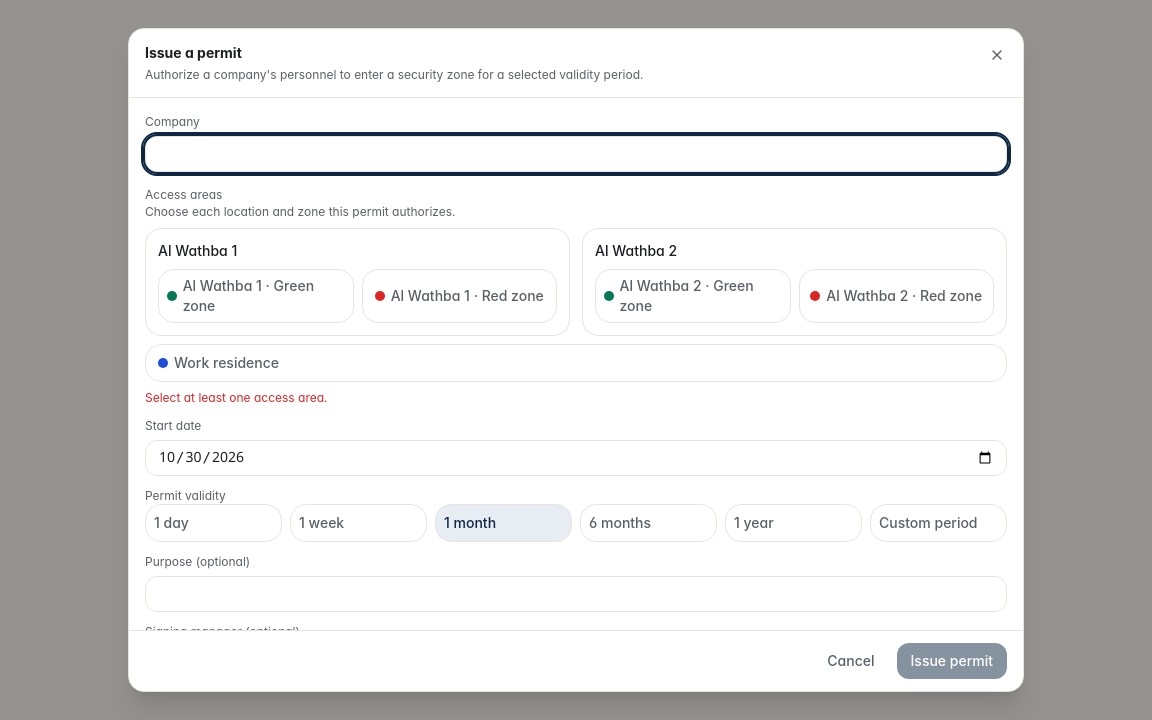
Test: requires a nonblank job / trade for each new person
Type "ACME" into the field labelled "Company" at (576, 154), box [145,136,1007,172]
(page scrolled)
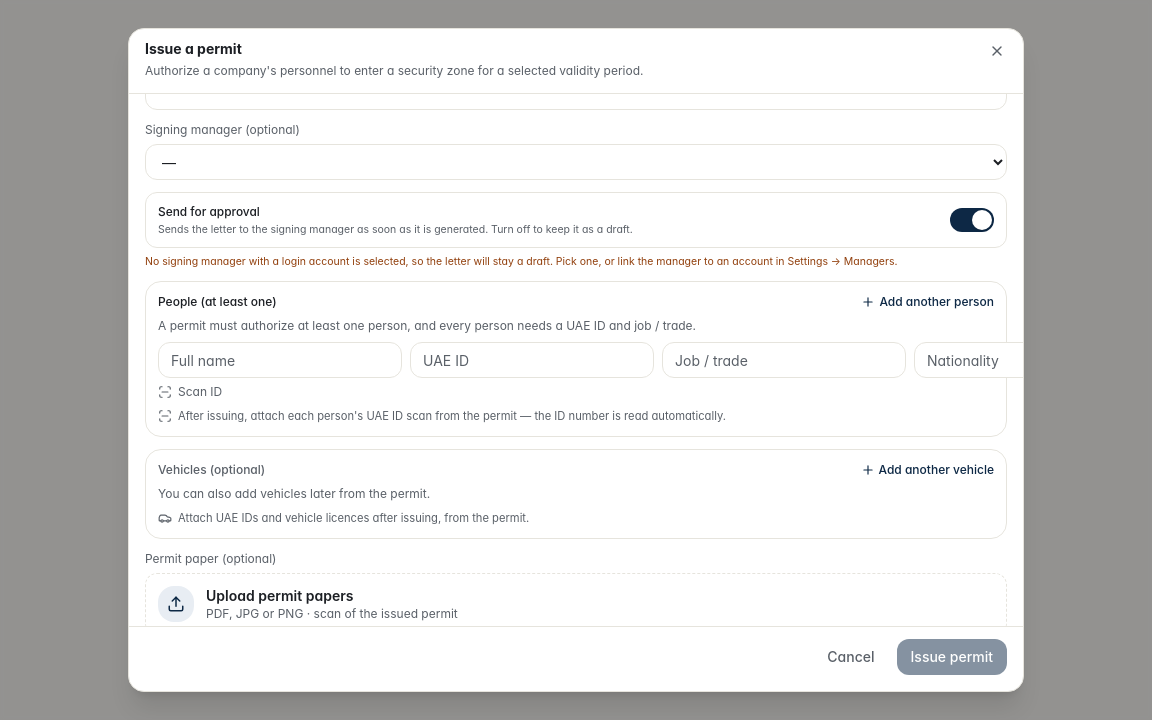
Type "Ali" into the field with placeholder "Full name" at (280, 360), box [158,342,402,378]
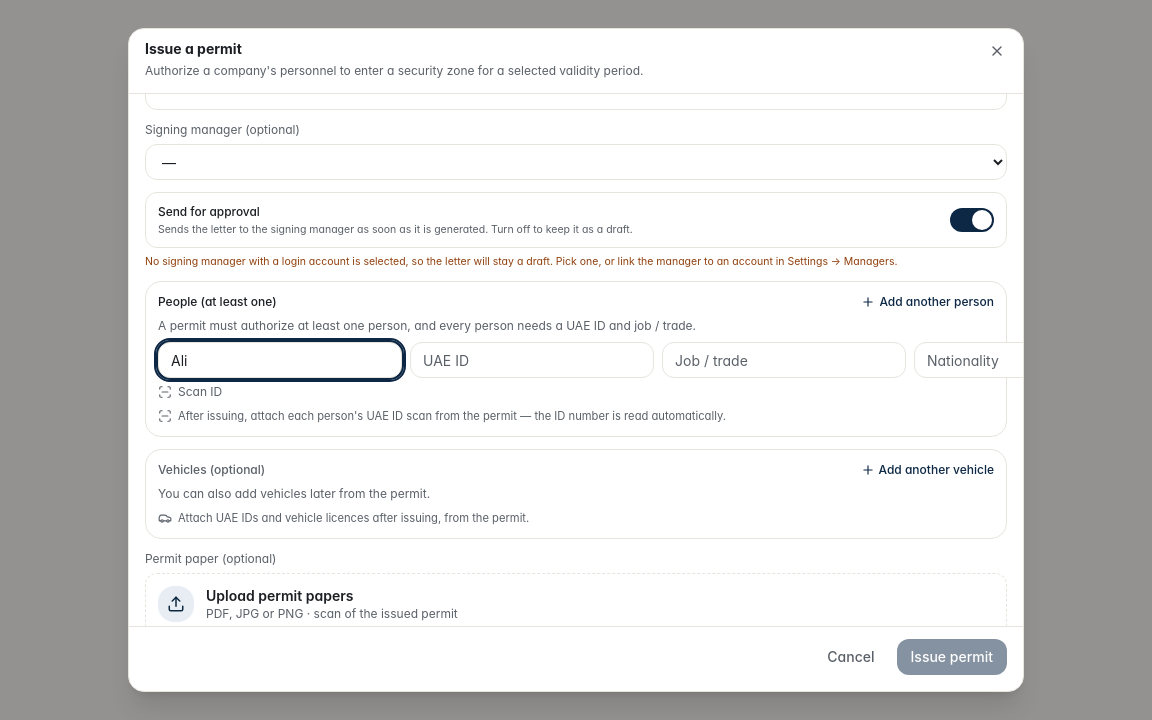
Type "784-1" into the field with placeholder "UAE ID" at (532, 360), box [410,342,654,378]
(page scrolled)
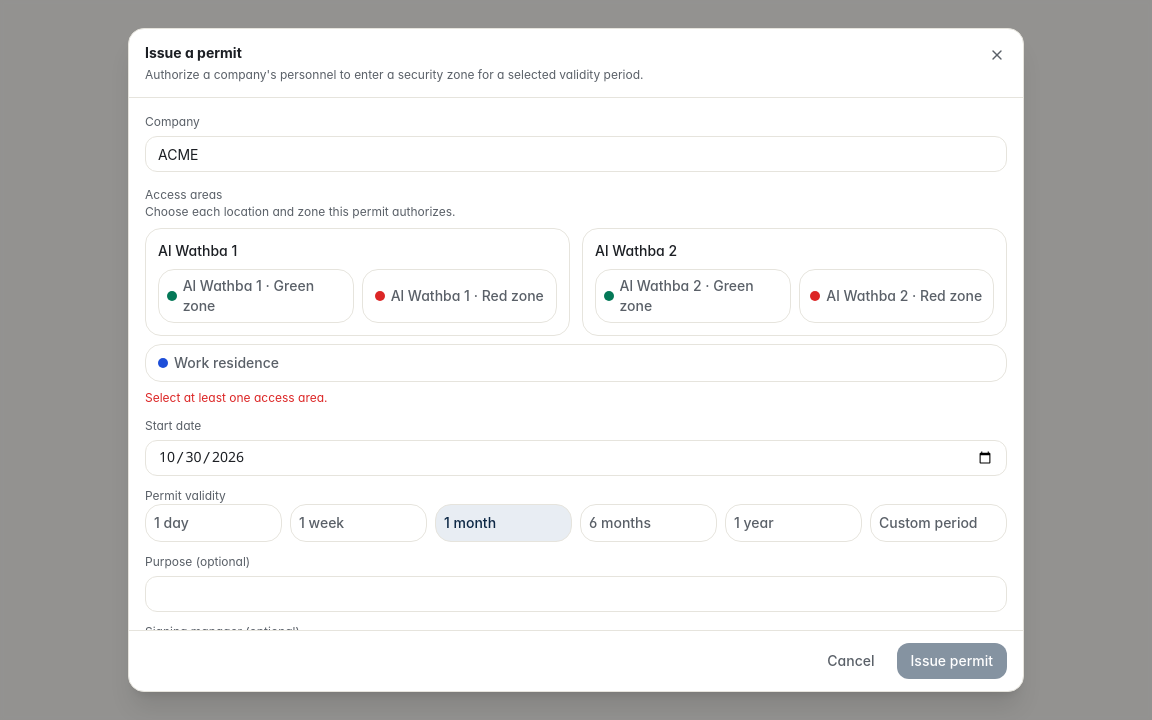
Click the button "Al Wathba 1 · Green zone" at (256, 296), box [158,269,354,323]
(page scrolled)
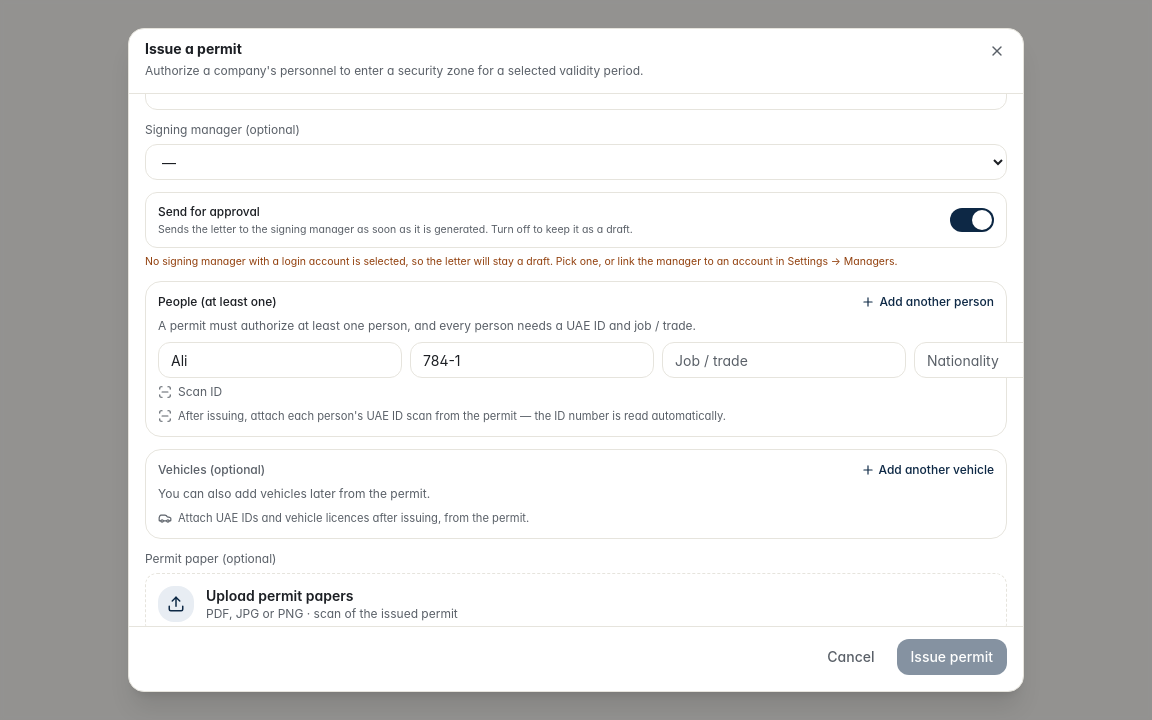
Expected: the button "Issue permit" is disabled, [896,639,1007,675]
Type " Electrician " into the field labelled "Job / trade" at (784, 360), box [662,342,906,378]
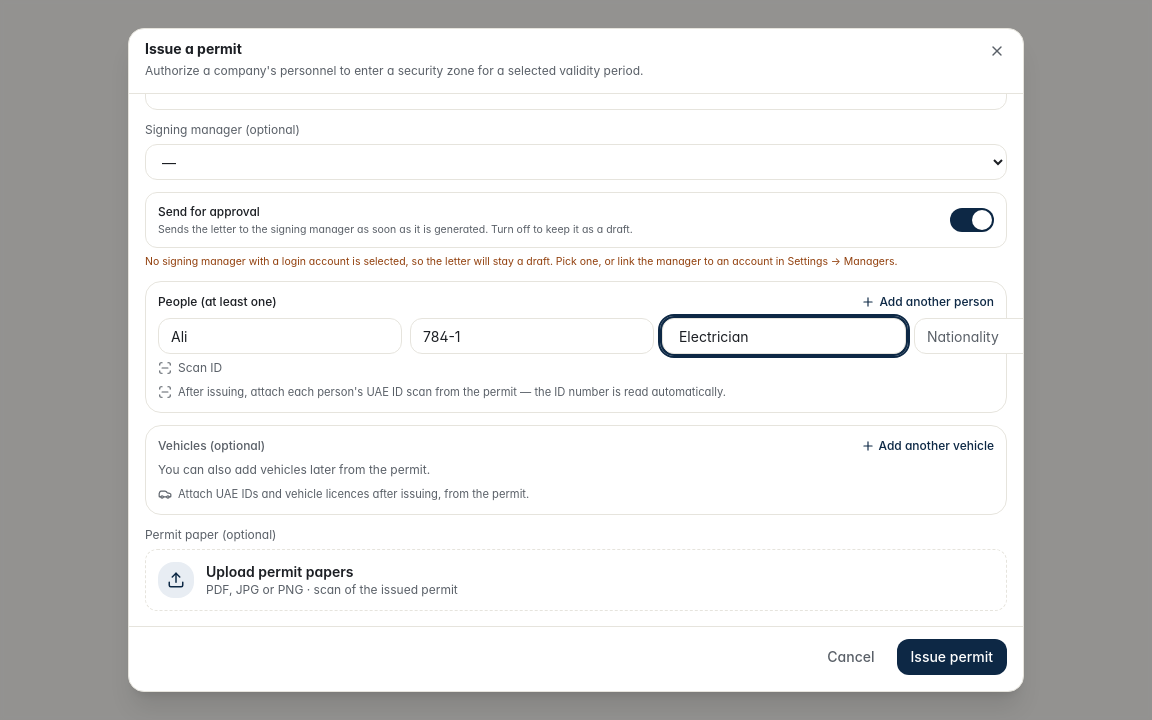
Result: the button "Issue permit" is enabled at [896,639,1007,675]
